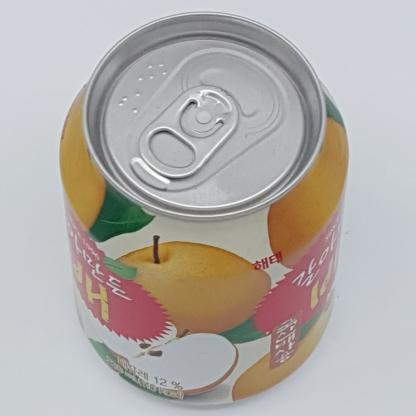-------238ML: (59, 10, 349, 405)
